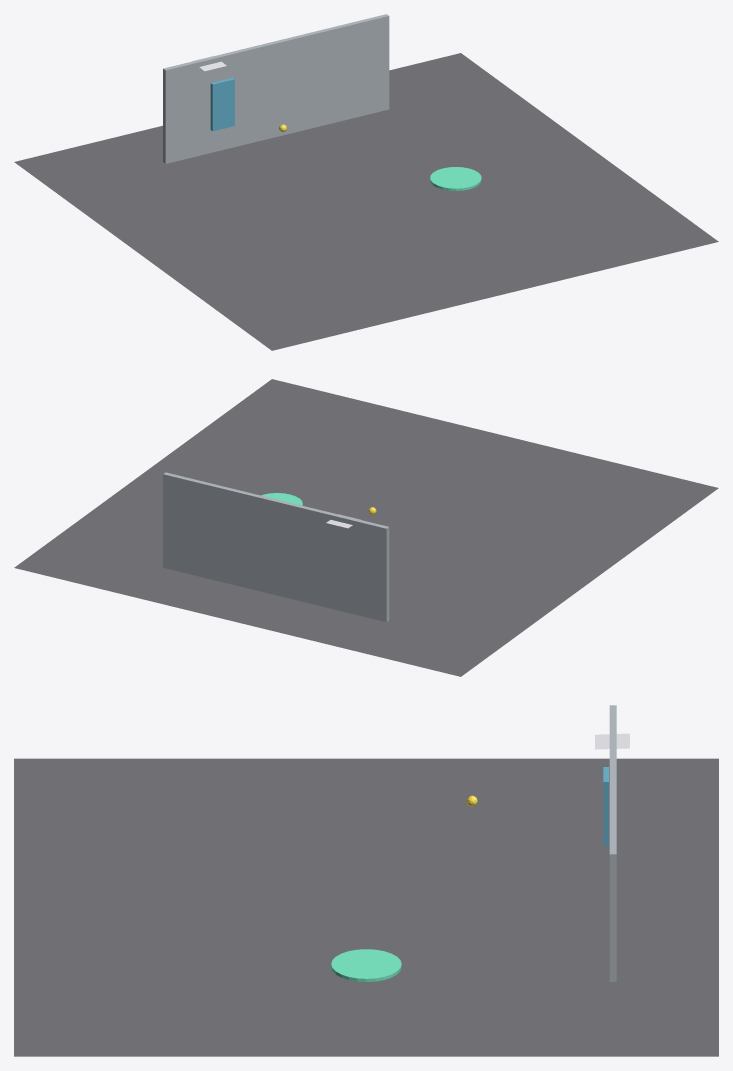
Rendered from blender test 1.glb.
3 views of the same model, one above another, from view 1: azimuth 30°, elevation 25°; view 2: azimuth 150°, elevation 25°; view 3: azimuth 270°, elevation 25° (orthographic). The views are drawn at different scales.
Visible parts, largest first — view 1: Floor, Wall, LabDoor01, teleport_Pad_A; view 2: Floor, Wall; view 3: Floor, Wall, teleport_Pad_A.
Part boxes in pixels (x1,y1,x2,y2): Floor: (14,53,718,350); Wall: (163,14,389,163); LabDoor01: (210,78,234,131); teleport_Pad_A: (430,167,481,190); Floor: (14,379,718,676); Wall: (163,472,389,622); Floor: (14,758,718,1056); Wall: (609,705,616,981); teleport_Pad_A: (331,949,401,981).
Size of the model in its own units: 10 by 2 by 10.
